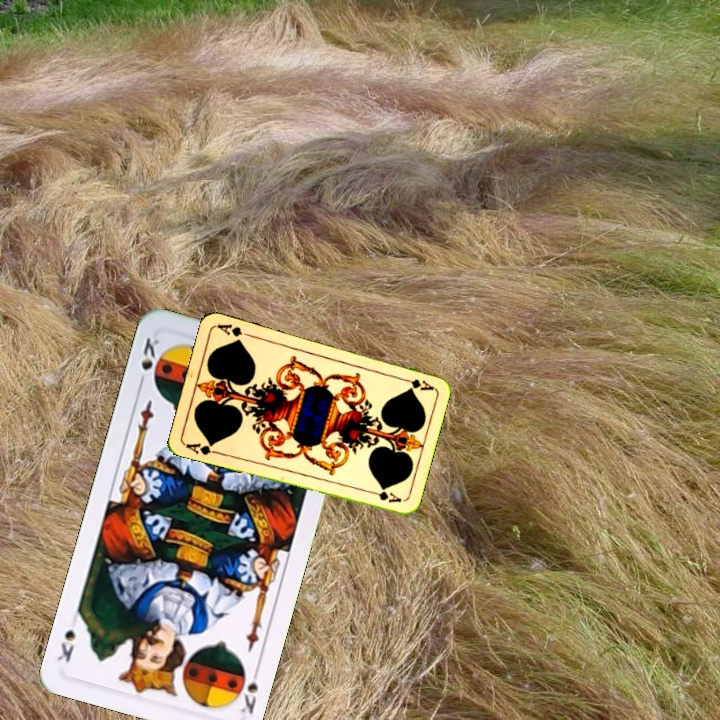GA: (396, 373, 435, 393), (181, 439, 222, 458)
SK: (134, 333, 165, 390), (236, 662, 263, 717)
